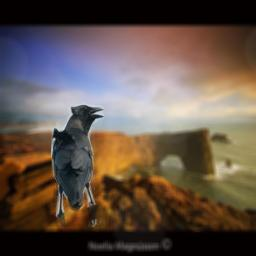Crow: (51, 100, 104, 227)
